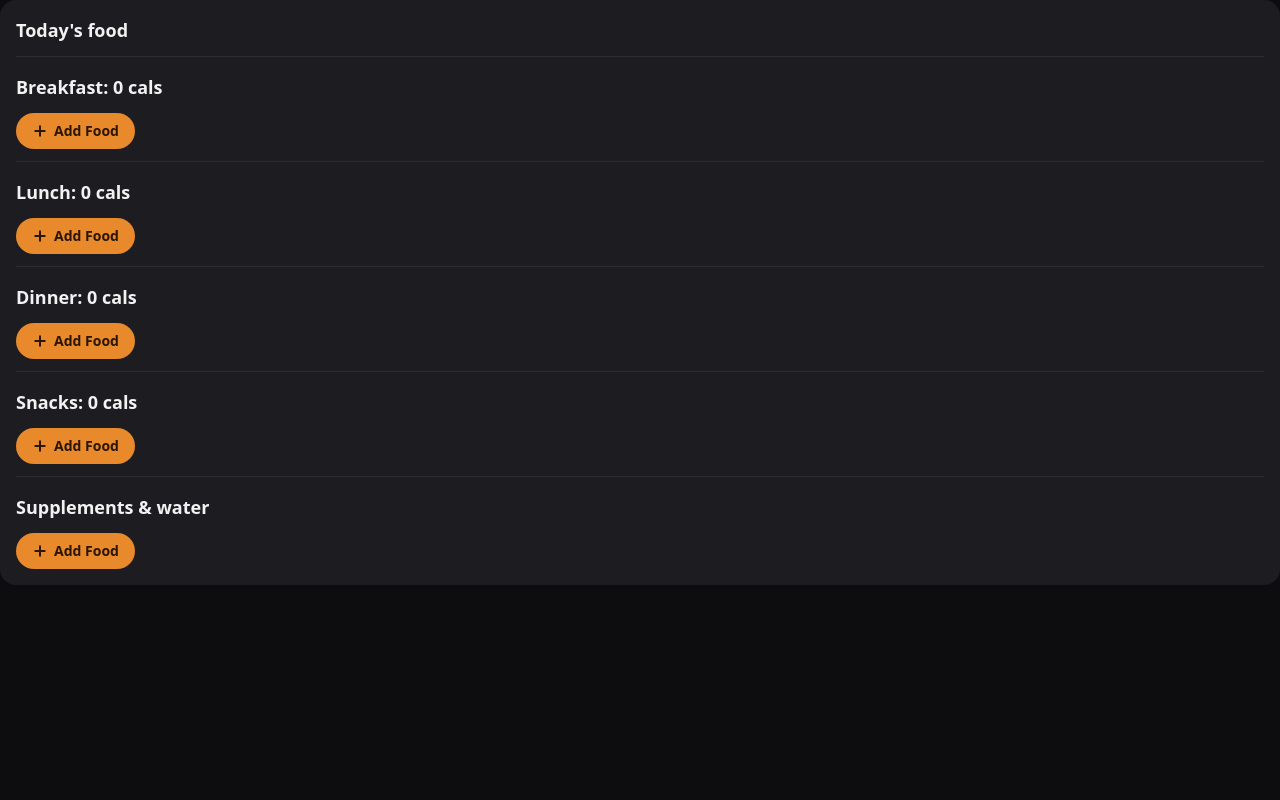
Test: Add food › a refused portion shows the server's message in the sheet
Click the button "Add Food" below "Snacks: 0 cals" at x=75, y=446, box [16, 428, 135, 464]
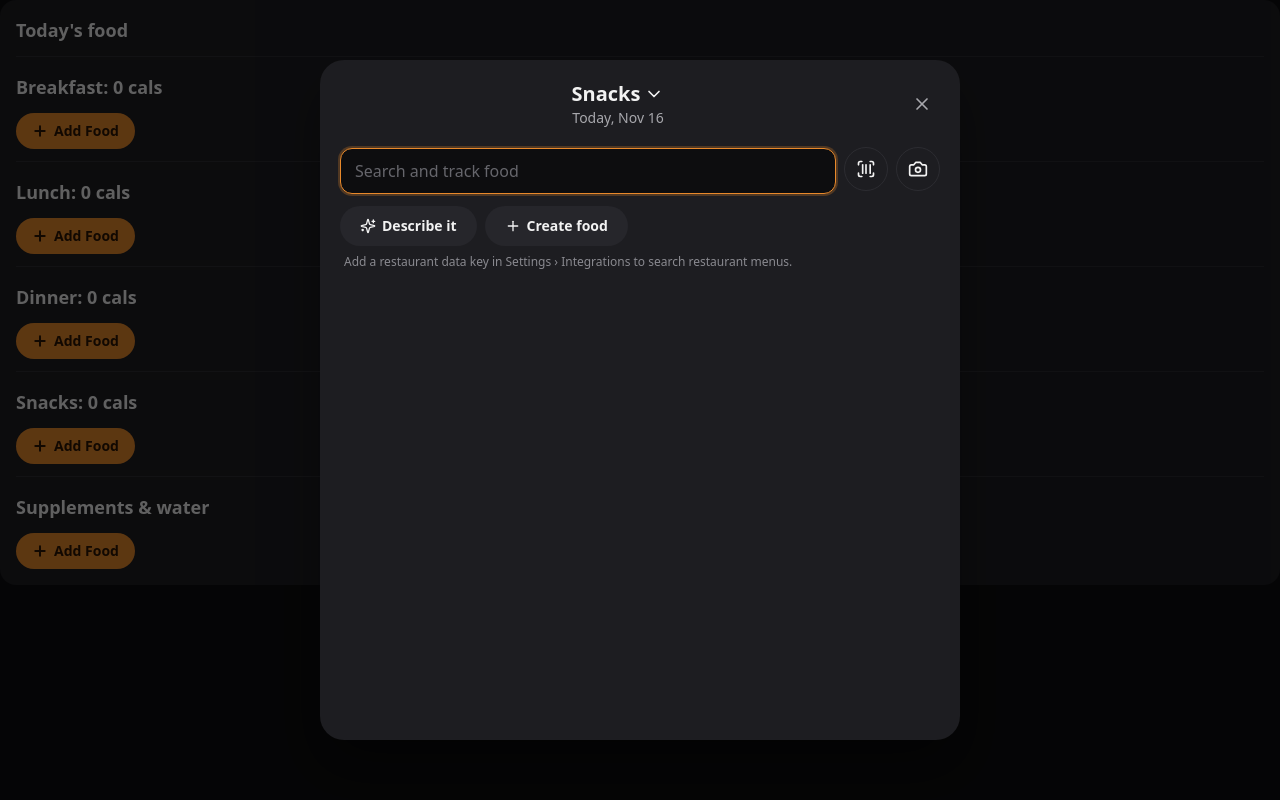
Type "peanut" into the search field named "Search foods" at x=588, y=171, box [340, 148, 836, 194]
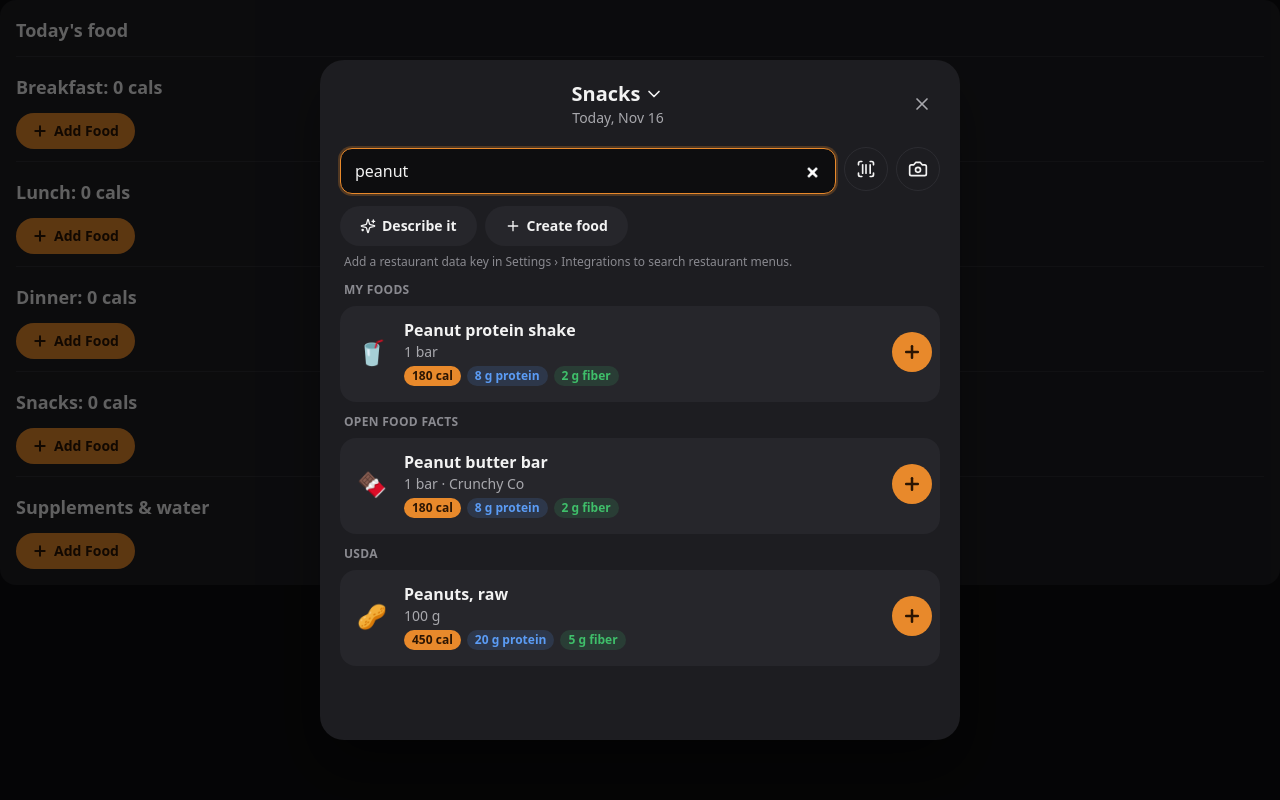
Click the button "Peanut butter bar" at x=476, y=462, box [348, 446, 884, 522]
(page scrolled)
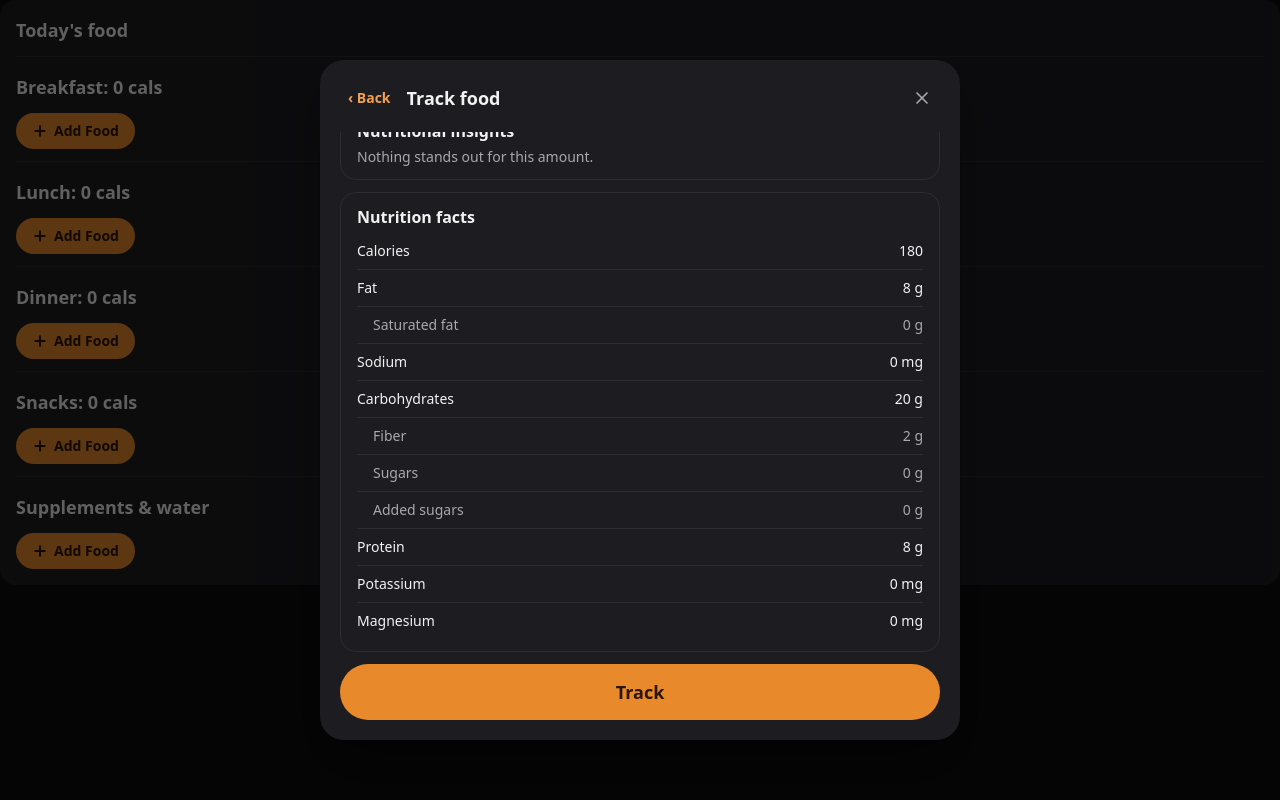
Click the button "Track" at x=640, y=692, box [340, 664, 940, 720]
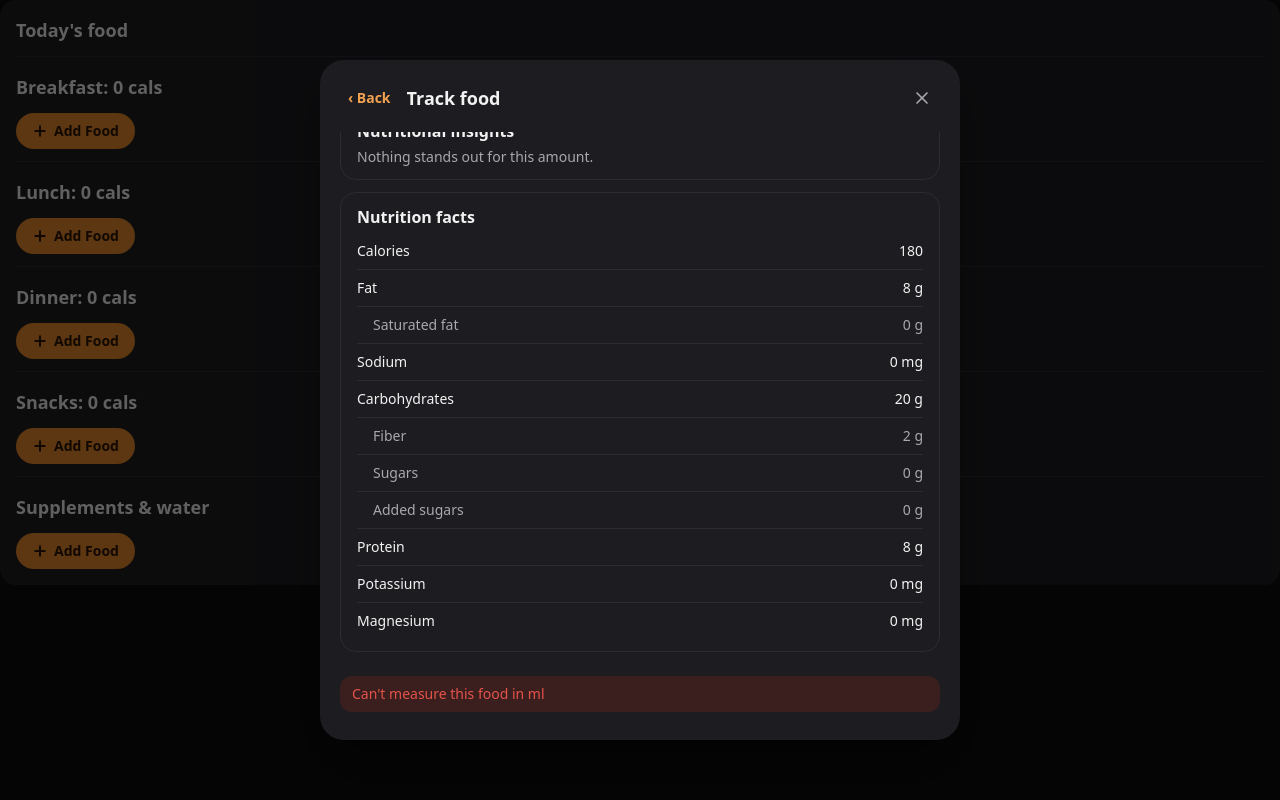
Now the message reads "Can't measure this food in ml", box [352, 684, 545, 703]
